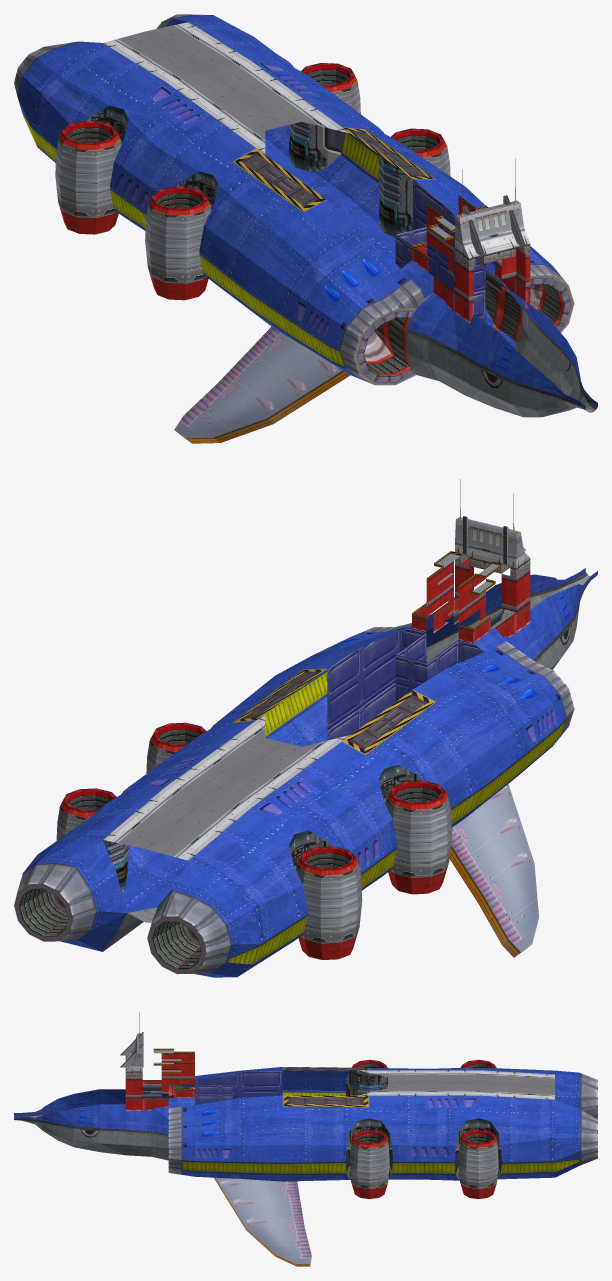
3 renders of one model, top to bottom at view 1: azimuth 30°, elevation 25°; view 2: azimuth 150°, elevation 25°; view 3: azimuth 270°, elevation 25°, orthographic. The views are drawn at different scales.
Parts seen in each view (by area): view 1: s13_on_32_15, s13_on_32_3, s13_on_32_10, s13_on_32_7, s13_on_32_21, s13_on_32_17, s13_on_32_19, s13_on_32_6, s13_on_32_4, s13_on_32_13, s13_on_32_16, s13_on_32_8 (+8 smaller); view 2: s13_on_32_15, s13_on_32_3, s13_on_32_10, s13_on_32_7, s13_on_32_21, s13_on_32_17, s13_on_32_18, s13_on_32_16, s13_on_32_6, s13_on_32_4, s13_on_32_8, s13_on_32_13 (+8 smaller); view 3: s13_on_32_15, s13_on_32_10, s13_on_32_21, s13_on_32_3, s13_on_32_17, s13_on_32_16, s13_on_32_7, s13_on_32_19, s13_on_32_13, s13_on_32_18, s13_on_32_6, s13_on_32_8 (+3 smaller).
Boxes of the visible parts, box(x1,y1,x2,y2) form: s13_on_32_15: box(17, 15, 597, 409); s13_on_32_3: box(103, 22, 530, 258); s13_on_32_10: box(14, 14, 573, 384); s13_on_32_7: box(55, 81, 450, 281); s13_on_32_21: box(174, 314, 491, 437); s13_on_32_17: box(110, 61, 438, 342); s13_on_32_19: box(405, 208, 595, 417); s13_on_32_6: box(58, 198, 574, 385); s13_on_32_4: box(67, 69, 564, 375); s13_on_32_13: box(87, 63, 412, 237); s13_on_32_16: box(21, 110, 494, 368); s13_on_32_8: box(59, 63, 462, 263); s13_on_32_15: box(23, 568, 597, 977); s13_on_32_3: box(103, 542, 529, 860); s13_on_32_10: box(15, 517, 574, 973); s13_on_32_7: box(56, 741, 451, 941); s13_on_32_21: box(451, 784, 538, 951); s13_on_32_17: box(141, 668, 558, 872); s13_on_32_18: box(327, 628, 484, 740); s13_on_32_16: box(228, 669, 565, 964); s13_on_32_6: box(298, 558, 530, 959); s13_on_32_4: box(19, 729, 439, 968); s13_on_32_8: box(60, 583, 485, 875); s13_on_32_13: box(103, 721, 421, 892); s13_on_32_15: box(14, 1067, 579, 1181); s13_on_32_10: box(74, 1033, 597, 1176); s13_on_32_21: box(215, 1177, 311, 1264); s13_on_32_3: box(125, 1050, 554, 1099); s13_on_32_17: box(195, 1067, 478, 1161); s13_on_32_16: box(182, 1090, 579, 1175); s13_on_32_7: box(349, 1139, 498, 1188); s13_on_32_19: box(15, 1050, 181, 1160); s13_on_32_13: box(346, 1070, 501, 1178); s13_on_32_18: box(195, 1070, 282, 1104); s13_on_32_6: box(125, 1053, 496, 1199); s13_on_32_8: box(161, 1059, 496, 1147).
Size of the model in its own units: 2829 by 2614 by 6801.
26 materials, 26 textured.
